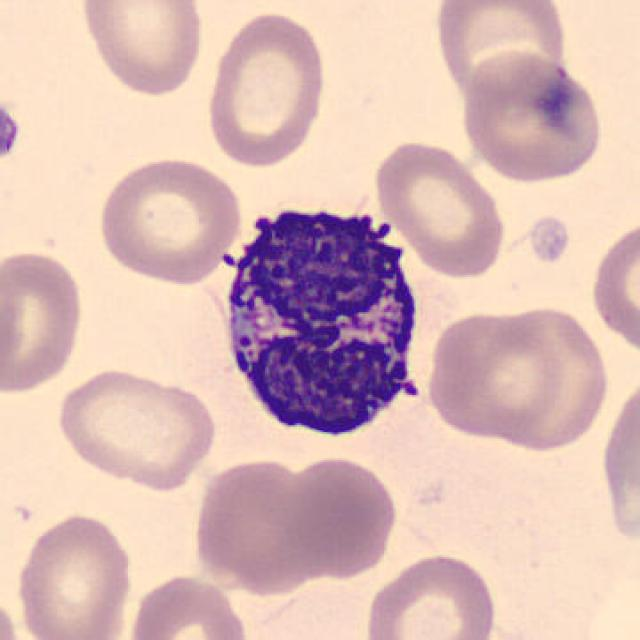basophil: (236, 215, 415, 420)
rbc: (376, 130, 510, 286), (92, 157, 252, 285), (427, 305, 573, 442), (57, 376, 215, 486), (494, 295, 609, 445), (211, 16, 324, 164), (196, 458, 314, 593), (283, 447, 401, 582), (74, 0, 204, 116), (468, 58, 594, 172), (367, 539, 501, 640), (22, 524, 136, 640), (4, 239, 76, 397), (417, 0, 570, 72), (138, 552, 256, 640), (591, 215, 640, 360), (611, 385, 640, 539)
